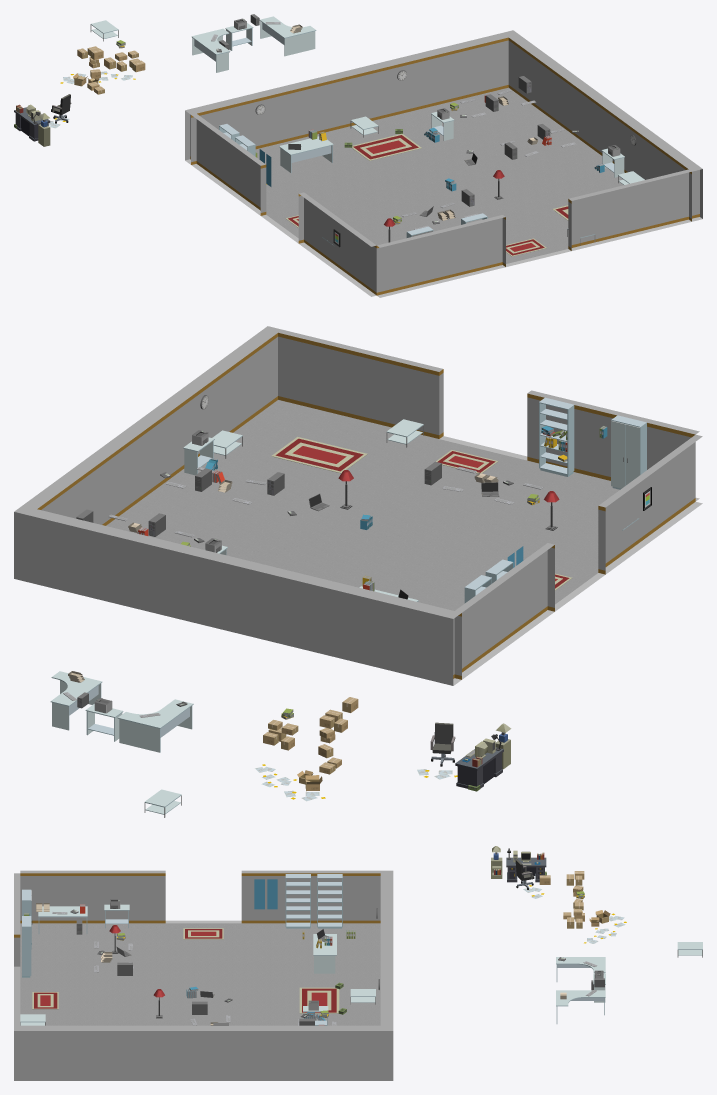
The model's file is Office (1)_hub.FBX.
The picture shows the model from 3 angles, top to bottom: view 1: azimuth 30°, elevation 25°; view 2: azimuth 150°, elevation 25°; view 3: azimuth 270°, elevation 25°; orthographic projection. The views are drawn at different scales.
Parts seen in each view (by area): view 1: Floor, Room - Inner (×2), InnerWall, InnerWall (1), Room - Lounge-detach (×2), InnerWall (3), InnerWall (2), PREF_table_05 (×2), Prop_Rug_01, PREF_table_01, Prop_Desk_01, Prop_Rug_04 (1); view 2: Floor, Room - Lounge-detach (×2), Room - Inner, InnerWall, InnerWall (2), InnerWall (3), InnerWall (1), PREF_table_05 (×2), PREF_furniture_04, PREF_furniture_02, Prop_Rug_01 (2), Prop_Desk_01 (+3 smaller); view 3: Floor, Room - Lounge-detach (×2), InnerWall (2), InnerWall (3), PREF_furniture_02 (×3), PREF_table_01 (×2), PREF_table_05 (×2), Prop_Rug_01, Base Room, InnerWall, mesh_furniture_05_glass, InnerWall (1) (+3 smaller).
Boxes of the visible parts, <box> form: Floor: <box>185,87,702,297</box>; Room - Inner (×2): <box>191,37,691,221</box>; InnerWall: <box>568,169,702,250</box>; InnerWall (1): <box>376,215,505,295</box>; Room - Lounge-detach (×2): <box>185,33,702,216</box>; InnerWall (3): <box>185,111,266,215</box>; InnerWall (2): <box>298,192,376,295</box>; PREF_table_05 (×2): <box>191,16,316,72</box>; Prop_Rug_01: <box>352,133,421,160</box>; PREF_table_01: <box>279,136,333,173</box>; Prop_Desk_01: <box>14,107,50,141</box>; Prop_Rug_04 (1): <box>506,238,546,256</box>; Floor: <box>106,400,702,685</box>; Room - Lounge-detach (×2): <box>23,326,461,685</box>; Room - Inner: <box>37,333,277,525</box>; InnerWall: <box>278,329,443,438</box>; InnerWall (2): <box>598,434,702,574</box>; InnerWall (3): <box>449,543,554,678</box>; InnerWall (1): <box>527,390,699,480</box>; PREF_table_05 (×2): <box>50,671,193,752</box>; PREF_furniture_04: <box>611,415,646,489</box>; PREF_furniture_02: <box>539,397,574,476</box>; Prop_Rug_01 (2): <box>271,437,367,473</box>; Prop_Desk_01: <box>455,747,503,788</box>; Floor: <box>20,920,380,1025</box>; Room - Lounge-detach (×2): <box>14,870,393,1080</box>; InnerWall (2): <box>20,870,165,923</box>; InnerWall (3): <box>241,870,392,923</box>; PREF_furniture_02 (×3): <box>22,874,342,977</box>; PREF_table_01 (×2): <box>38,906,336,973</box>; PREF_table_05 (×2): <box>556,957,605,1023</box>; Prop_Rug_01: <box>299,987,339,1013</box>; Base Room: <box>380,1025,393,1080</box>; InnerWall: <box>14,966,20,1080</box>; mesh_furniture_05_glass: <box>254,879,277,909</box>; InnerWall (1): <box>14,873,20,966</box>.
Bounding box in the file's own units: 38603 × 4468 × 54500.
